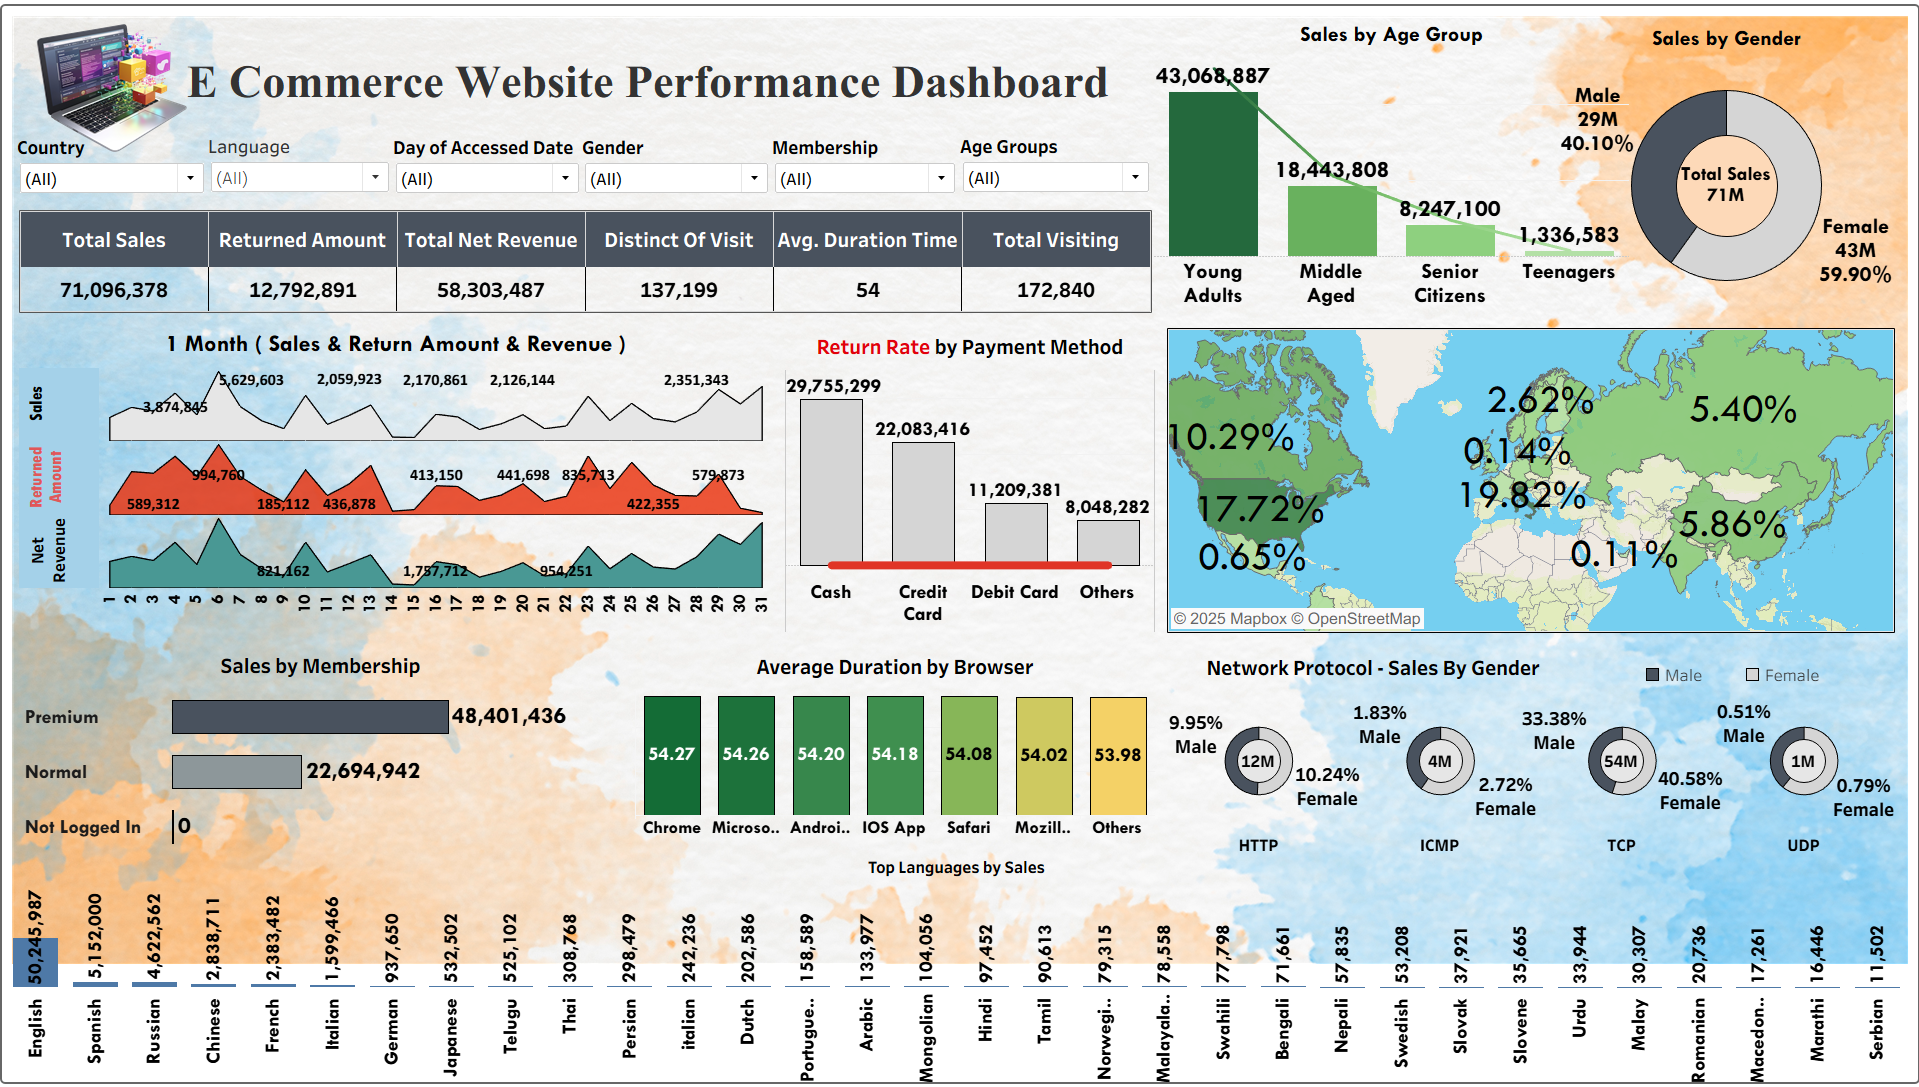

The page's visual inventory and layout, read from the dashboard file:
{"tool":"tableau","page":{"name":"Dashboard","canvas":[1000,1000],"units":"permille","ordinal":0},"visuals":[{"type":"image","param":"C:/Softwares Downloads/hand-painted-watercolor-background-with-sky-clouds-shape.","box":[4.2,7.4,991.7,985.2]},{"type":"worksheet","title":"Age Group","mark":"Bar","rows":["Sales","Sales"],"cols":["Calculation_733523853957578754"],"box":[601,13,247.4,274.1]},{"type":"worksheet","title":"Gender ( Donut_Count )","mark":"Circle","rows":["Calculation_813462746253877249","Calculation_813462746253905923"],"box":[806.8,16.7,184.9,266.7]},{"type":"title","box":[82.3,26.9,510.4,90.7]},{"type":"filter","title":"Age Group","param":"[federated.1f1wf1k05gtjga10v74oe0rqsche].[none:Language:nk]","box":[108.3,119.4,95.8,67.6]},{"type":"filter","title":"KPI","param":"[federated.1f1wf1k05gtjga10v74oe0rqsche].[none:Calculation_733523853957578754:nk","box":[500,119.4,100,59.3]},{"type":"filter","title":"KPI","param":"[federated.1f1wf1k05gtjga10v74oe0rqsche].[none:Country:nk]","box":[8.8,120.4,99,58.3]},{"type":"filter","title":"KPI","param":"[federated.1f1wf1k05gtjga10v74oe0rqsche].[dy:Accessed_Date:ok]","box":[204.7,120.4,98.4,62]},{"type":"filter","title":"KPI","param":"[federated.1f1wf1k05gtjga10v74oe0rqsche].[none:Gender:nk]","box":[303.1,120.4,98.4,60.2]},{"type":"filter","title":"KPI","param":"[federated.1f1wf1k05gtjga10v74oe0rqsche].[none:Membership:nk]","box":[402.1,120.4,96.9,61.1]},{"type":"worksheet","title":"KPI","mark":"Automatic","box":[9.9,190.7,590.1,95.4]},{"type":"worksheet","title":"Sales & R/A ( Line_Plot )","mark":"Area","rows":["Sales","Returned_Amount","Calculation_733523853930549249"],"cols":["Accessed_Date"],"box":[9.9,298.2,392.7,283.3]},{"type":"worksheet","title":"Return Rate By Paymethod","mark":"Automatic","rows":["Sales","Calculation_281756518450688000"],"cols":["Pay_Method"],"box":[408.9,300,192.7,282.4]},{"type":"worksheet","title":"Map","mark":"Multipolygon","box":[607.8,300,379.2,282.4]},{"type":"worksheet","title":"Sales & Memberhip","mark":"Automatic","rows":["Membership"],"cols":["Sales"],"box":[9.9,595.4,314.1,191.7]},{"type":"worksheet","title":"Avg DM By Browser","mark":"Automatic","rows":["Duration_Minutes"],"cols":["Accessed_From"],"box":[330.7,596.3,270.8,191.7]},{"type":"worksheet","title":"Network P.DC","mark":"Pie","rows":["Calculation_1047086920991084554","Calculation_1047086920991289356"],"cols":["Network_Protocol"],"box":[608.3,597.2,378.7,190.7]},{"type":"legend","title":"Network P.DC","param":"[federated.1f1wf1k05gtjga10v74oe0rqsche].[none:Gender:nk]","box":[854.7,610.2,111.5,24.1]},{"type":"worksheet","title":"Language ( Bar_Plot )","mark":"Automatic","rows":["Sales"],"cols":["Language"],"box":[3.1,785.2,990.1,214.8]}]}

Visuals, with their boxes on the dashboard's canvas, which has no fixed pixel size, in thousandths of its width and height (x1, y1, x2, y2). These are canvas units, not pixel positions in the 1919x1087 screenshot, which may show the page scaled, cropped or inside an application window:
image: x1=4, y1=7, x2=996, y2=993
"Age Group" worksheet (Bar marks): x1=601, y1=13, x2=848, y2=287
"Gender ( Donut_Count )" worksheet (Circle marks): x1=807, y1=17, x2=992, y2=283
title: x1=82, y1=27, x2=593, y2=118
"Age Group" filter: x1=108, y1=119, x2=204, y2=187
"KPI" filter: x1=500, y1=119, x2=600, y2=179
"KPI" filter: x1=9, y1=120, x2=108, y2=179
"KPI" filter: x1=205, y1=120, x2=303, y2=182
"KPI" filter: x1=303, y1=120, x2=402, y2=181
"KPI" filter: x1=402, y1=120, x2=499, y2=182
"KPI" worksheet: x1=10, y1=191, x2=600, y2=286
"Sales & R/A ( Line_Plot )" worksheet (Area marks): x1=10, y1=298, x2=403, y2=582
"Return Rate By Paymethod" worksheet: x1=409, y1=300, x2=602, y2=582
"Map" worksheet (Multipolygon marks): x1=608, y1=300, x2=987, y2=582
"Sales & Memberhip" worksheet: x1=10, y1=595, x2=324, y2=787
"Avg DM By Browser" worksheet: x1=331, y1=596, x2=602, y2=788
"Network P.DC" worksheet (Pie marks): x1=608, y1=597, x2=987, y2=788
"Network P.DC" legend: x1=855, y1=610, x2=966, y2=634
"Language ( Bar_Plot )" worksheet: x1=3, y1=785, x2=993, y2=1000
